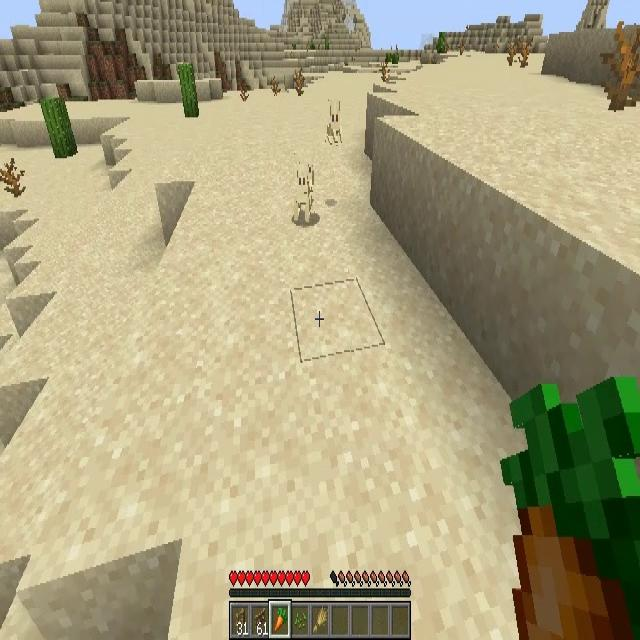rabbit: (294, 164, 314, 224), (326, 101, 342, 146)
